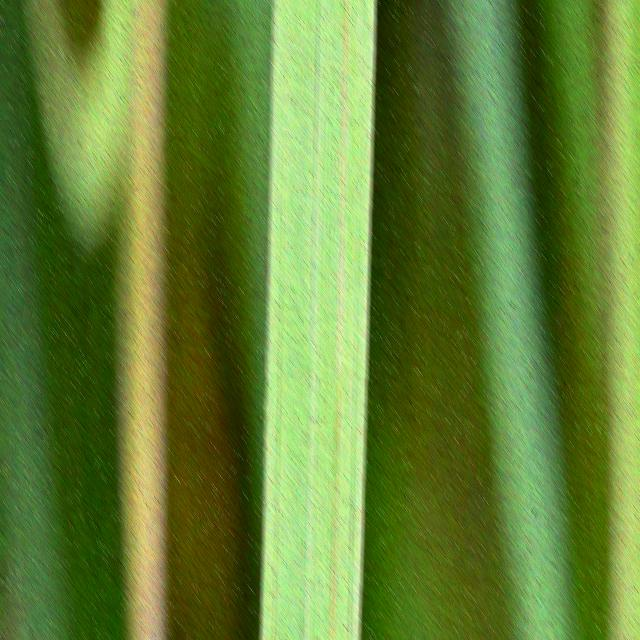BLS: (330, 0, 348, 640), (272, 296, 281, 640), (270, 0, 276, 180)
